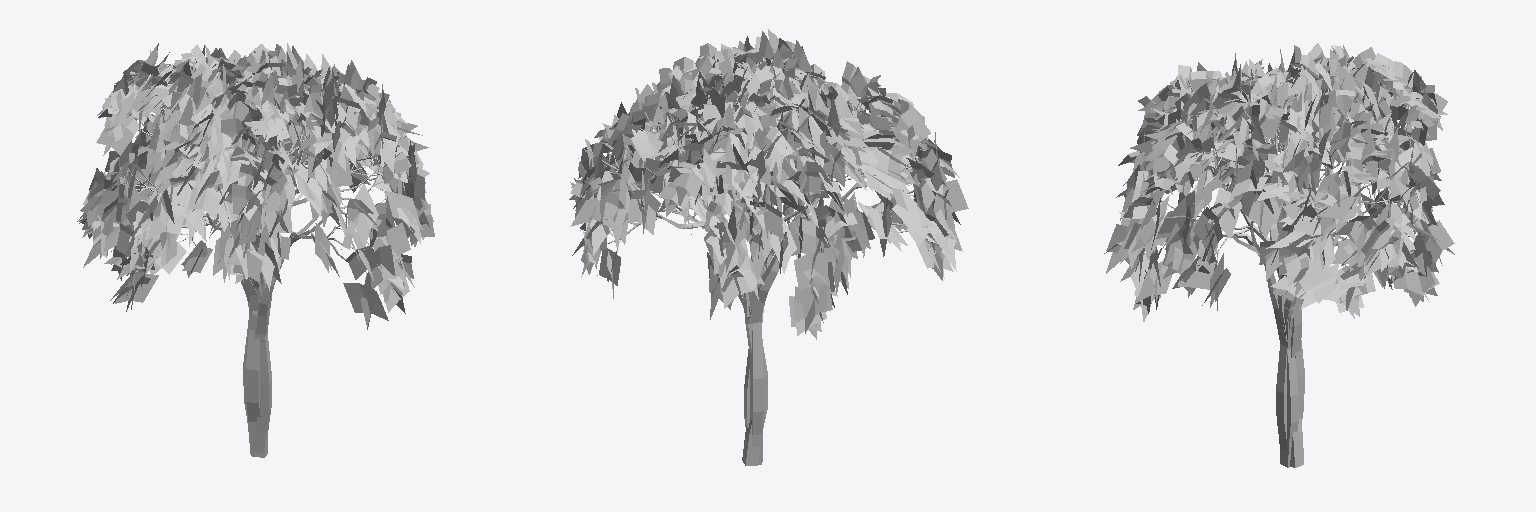
Rendered from gnarly.obj.
3 views of the same model, side by side, from view 1: azimuth 30°, elevation 25°; view 2: azimuth 150°, elevation 25°; view 3: azimuth 270°, elevation 25° (orthographic).
Visible parts, largest first — view 1: Gnarly_t; view 2: Gnarly_t; view 3: Gnarly_t.
Boxes of the visible parts, <box> form: Gnarly_t: <box>77,43,434,457</box>; Gnarly_t: <box>569,29,968,465</box>; Gnarly_t: <box>1104,43,1454,467</box>.
Size of the model in its own units: 2.27 by 2.47 by 1.92.